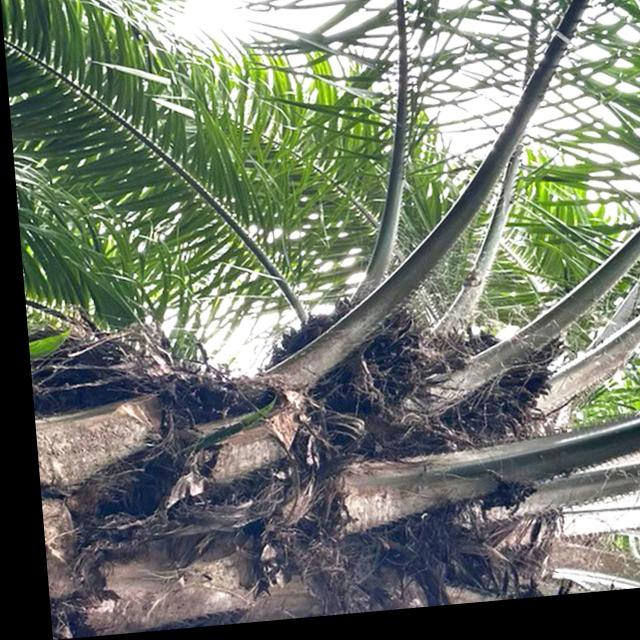almost: (425, 323, 563, 461)
unripe: (257, 299, 426, 424)
